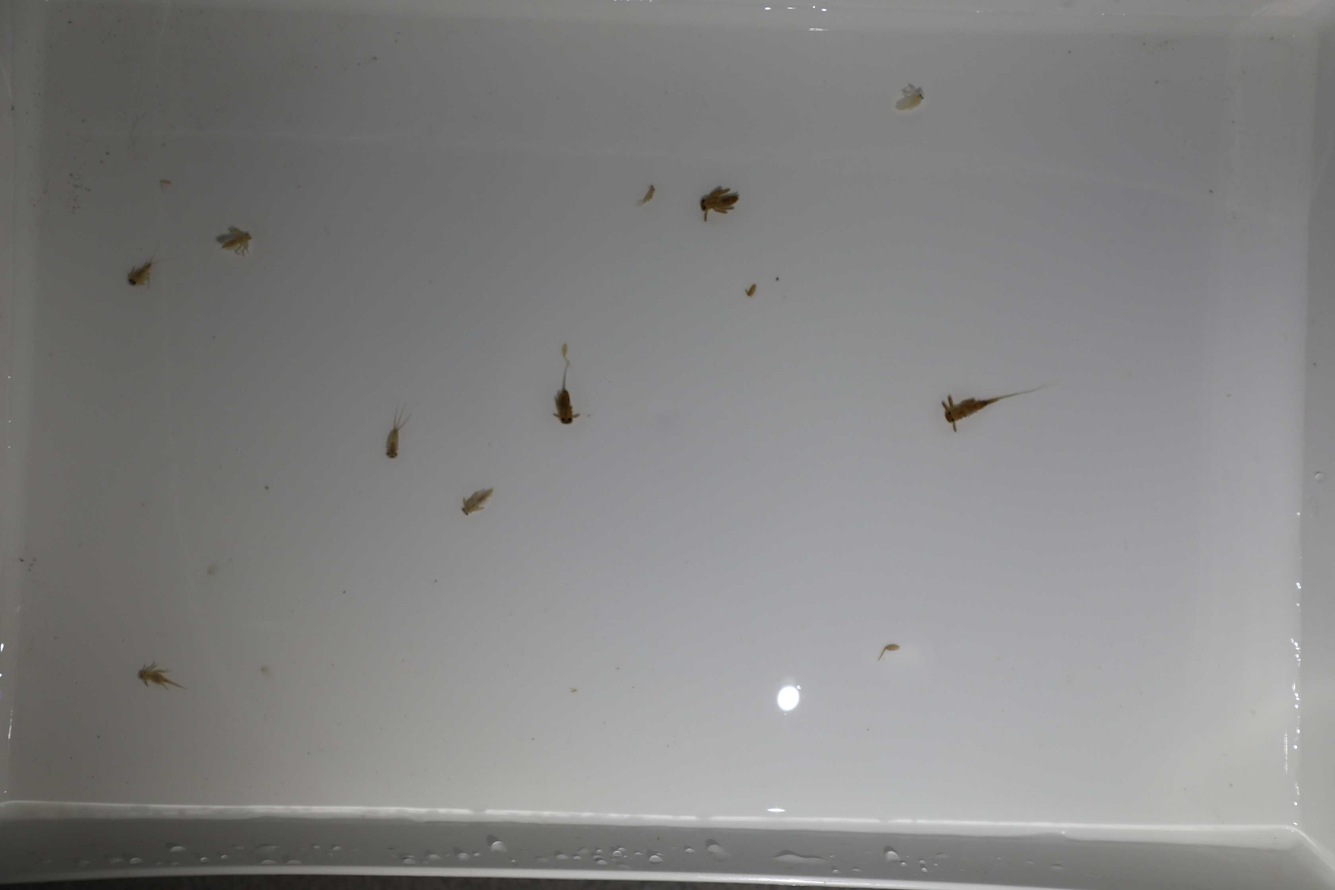Mayfly: (935, 368, 1052, 436), (547, 355, 581, 429), (692, 182, 743, 221), (134, 659, 193, 692), (378, 408, 409, 466), (210, 218, 258, 254), (454, 485, 497, 522), (888, 83, 931, 114), (116, 256, 157, 287)
